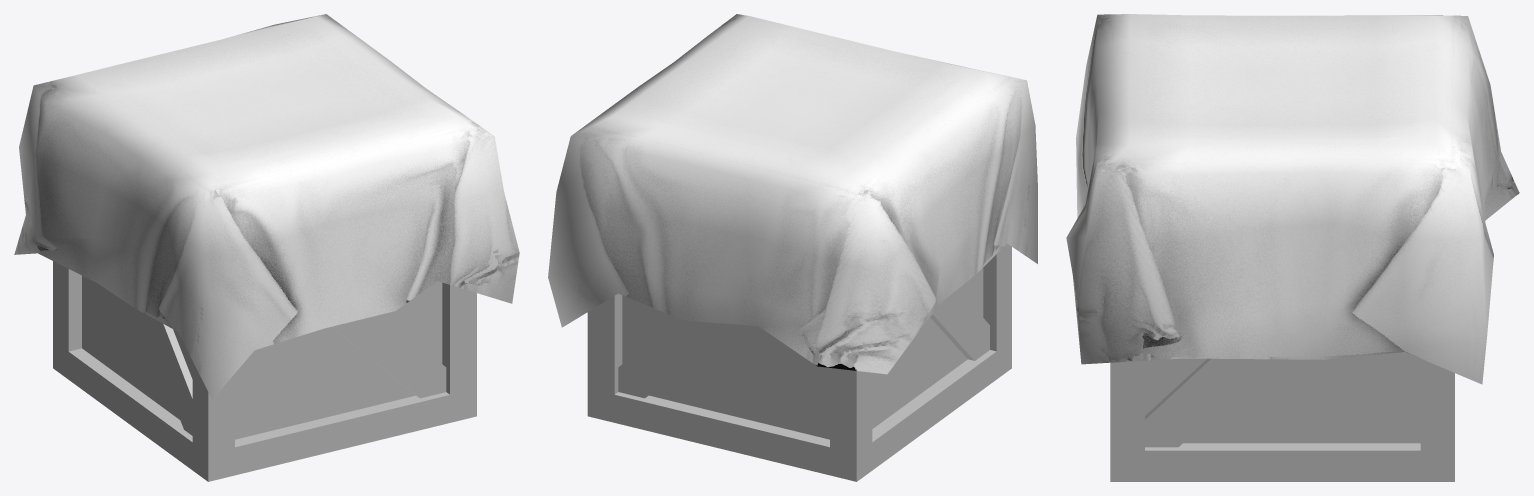
3 renders of one model, left to right at view 1: azimuth 30°, elevation 25°; view 2: azimuth 150°, elevation 25°; view 3: azimuth 270°, elevation 25°, orthographic. The views are drawn at different scales.
Parts seen in each view (by area): view 1: Cloth, Box; view 2: Cloth, Box; view 3: Cloth, Box.
Part boxes in pixels (left/top/right/bottom): Cloth: left=14, top=14, right=519, bottom=399; Box: left=53, top=261, right=476, bottom=481; Cloth: left=548, top=14, right=1037, bottom=374; Box: left=587, top=243, right=1011, bottom=481; Cloth: left=1066, top=14, right=1519, bottom=384; Box: left=1110, top=352, right=1454, bottom=481.
Size of the model in its own units: 269 by 212 by 263.
